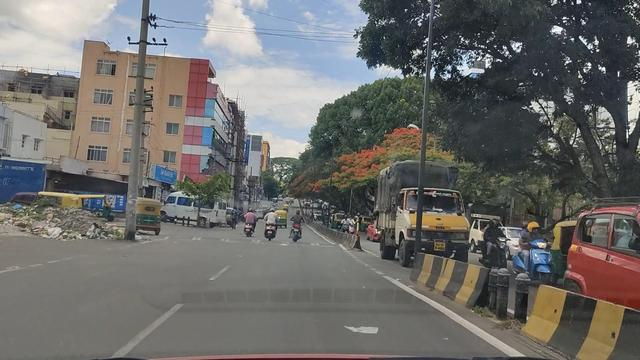LMV: (262, 207, 283, 245), (291, 203, 307, 247), (239, 203, 258, 235)
